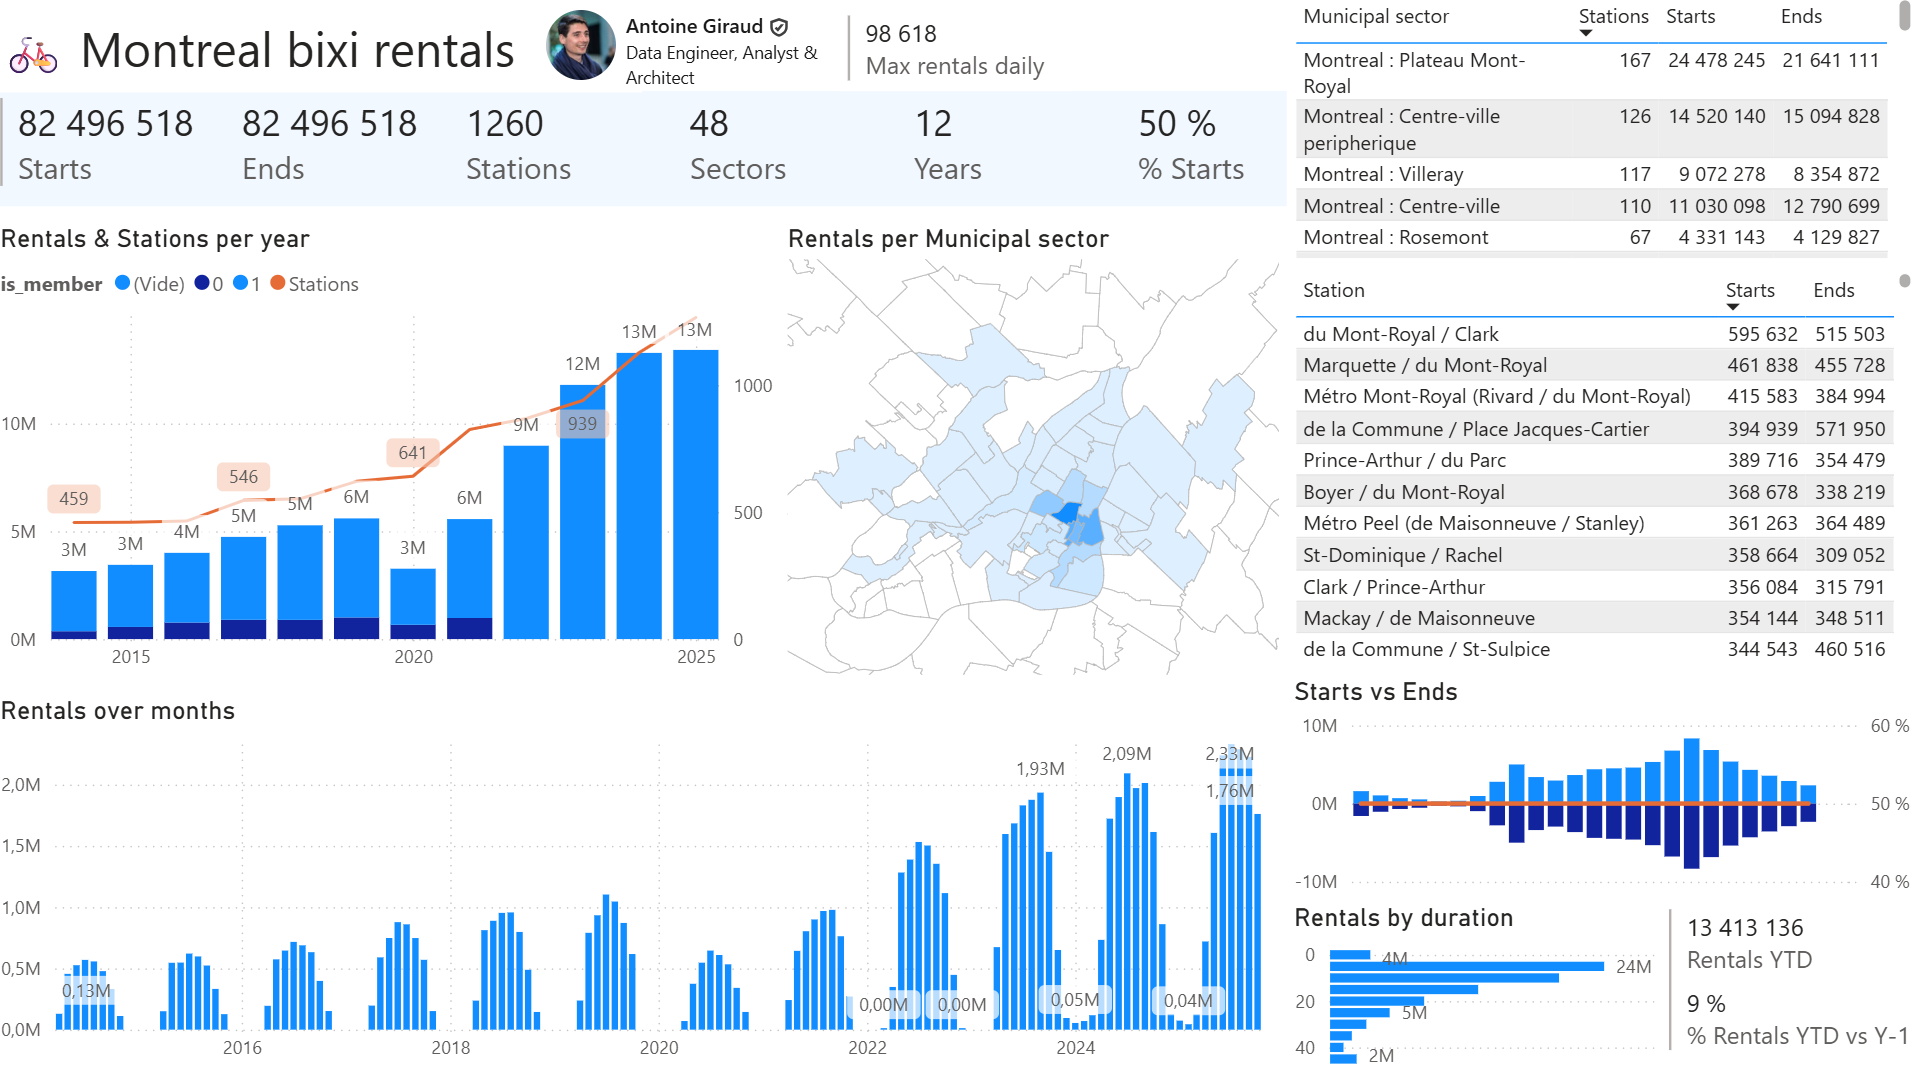

This screenshot's page, from the dashboard's own definition file:
{"tool":"powerbi","page":{"name":"Montréal Bixi Rentals","canvas":[1280,720],"ordinal":0},"visuals":[{"type":"multiRowCard","fields":{"Values":["stations_yearly.Starts","stations_yearly.Ends","stations_yearly.Stations","stations_yearly.Sectors","Count(stations_yearly.year)","stations_yearly.Starts / Ends"]},"box":[0,65.9,914.7,76.9],"z":0},{"type":"textbox","box":[0,5,431.1,59.8],"z":1000},{"type":"tableEx","fields":{"Values":["secteurs_municipaux_od_2013.sector_name","stations_yearly.Stations","stations_yearly.Starts","stations_yearly.Ends"]},"box":[859.7,0,420.3,181.7],"z":2000},{"type":"tableEx","fields":{"Values":["stations_yearly.name1","stations_yearly.Starts","stations_yearly.Ends"]},"box":[859.7,181.7,420.3,264.8],"z":3000},{"type":"lineStackedColumnComboChart","title":"Rentals & Stations per year","fields":{"Category":["dim_date.dt_annee"],"Series":["raw_bixi_rentals_2014_2020.is_member"],"Y":["raw_bixi_rentals_2014_2020.Rentals"],"Y2":["raw_bixi_rentals_2014_2020.Stations"]},"box":[0,153.8,523.3,306.3],"z":4000},{"type":"shapeMap","title":"Rentals per Municipal sector","fields":{"Category":["secteurs_municipaux_od_2013.sector_name"],"Value":["stations_yearly.Starts + Ends"]},"box":[523.3,153.8,336.5,304.9],"z":5000},{"type":"lineClusteredColumnComboChart","title":"Rentals over months","fields":{"Category":["dim_date.dt_mois"],"Y":["raw_bixi_rentals_2014_2020.Rentals"]},"box":[0,466.6,859.7,252.9],"z":6000},{"type":"lineStackedColumnComboChart","title":"Starts vs Ends","fields":{"Category":["raw_bixi_rentals_2014_2020.Start hour"],"Y":["stations_yearly.Starts","stations_yearly.-Ends"],"Y2":["stations_yearly.% Starts"]},"box":[859.7,454.6,420.3,151.1],"z":7000},{"type":"clusteredBarChart","title":"Rentals by duration","fields":{"Category":["raw_bixi_rentals_2014_2020.duration_5min_group"],"Y":["stations_yearly.Starts"]},"box":[859.5,604.8,249.6,115.6],"z":8000},{"type":"multiRowCard","fields":{"Values":["raw_bixi_rentals_2014_2020.Rentals YTD","raw_bixi_rentals_2014_2020.% Rentals YTD vs Y-1"]},"box":[1109.1,604.8,170.9,115.6],"z":9000},{"type":"multiRowCard","fields":{"Values":["raw_bixi_rentals_2014_2020.Max rentals daily"]},"box":[563.1,11,153.8,54.9],"z":10000},{"type":"image","box":[375.5,1.7,154.5,65.6],"z":10001}]}

Visuals, with their boxes in screenshot pixels (x1, y1, x2, y2), scaled from the page's 1280x720 canvas onto the 1916x1071 screenshot:
multiRowCard - stations_yearly.Starts x stations_yearly.Ends: [0,98,1369,212]
textbox: [0,7,645,96]
tableEx - secteurs_municipaux_od_2013.sector_name x stations_yearly.Stations: [1287,0,1915,270]
tableEx - stations_yearly.name1 x stations_yearly.Starts: [1287,270,1915,664]
"Rentals & Stations per year" lineStackedColumnComboChart: [0,229,783,684]
"Rentals per Municipal sector" shapeMap: [783,229,1287,682]
"Rentals over months" lineClusteredColumnComboChart: [0,694,1287,1070]
"Starts vs Ends" lineStackedColumnComboChart: [1287,676,1915,901]
"Rentals by duration" clusteredBarChart: [1287,900,1660,1070]
multiRowCard - raw_bixi_rentals_2014_2020.Rentals YTD x raw_bixi_rentals_2014_2020.% Rentals YTD vs Y-1: [1660,900,1915,1070]
multiRowCard - raw_bixi_rentals_2014_2020.Max rentals daily: [843,16,1073,98]
image: [562,3,793,100]
